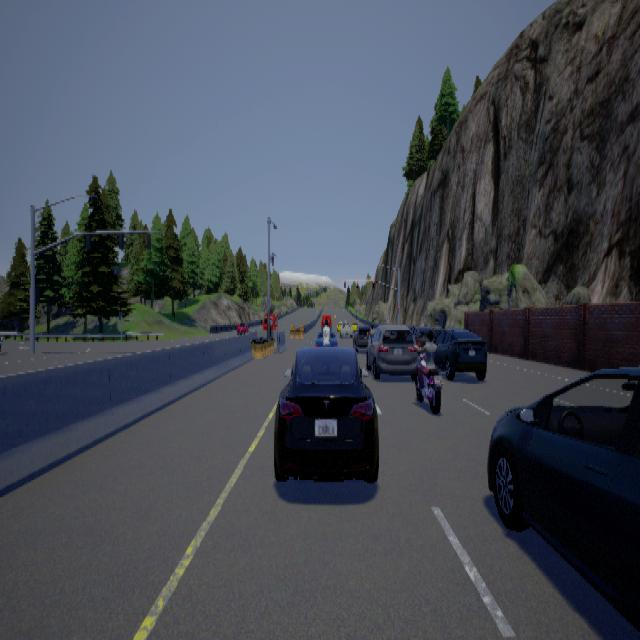motobike: (410, 327, 444, 412)
red_light: (372, 281, 374, 287), (344, 281, 346, 287)
vehicle: (486, 364, 639, 630), (273, 344, 375, 482), (430, 320, 490, 387), (367, 320, 417, 382), (315, 326, 339, 348)
